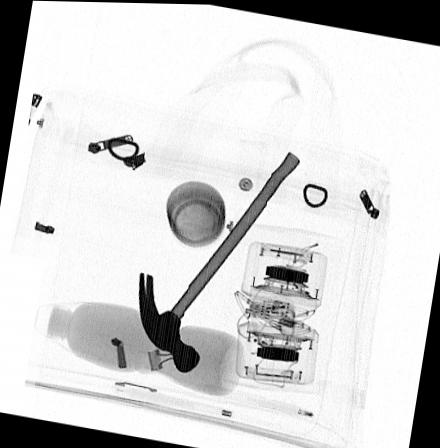Hammer: (137, 150, 300, 373)
